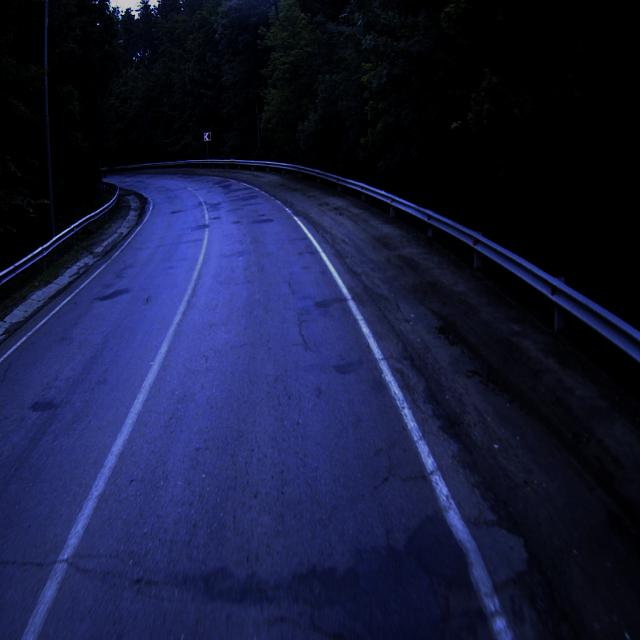road: (0, 172, 583, 639)
